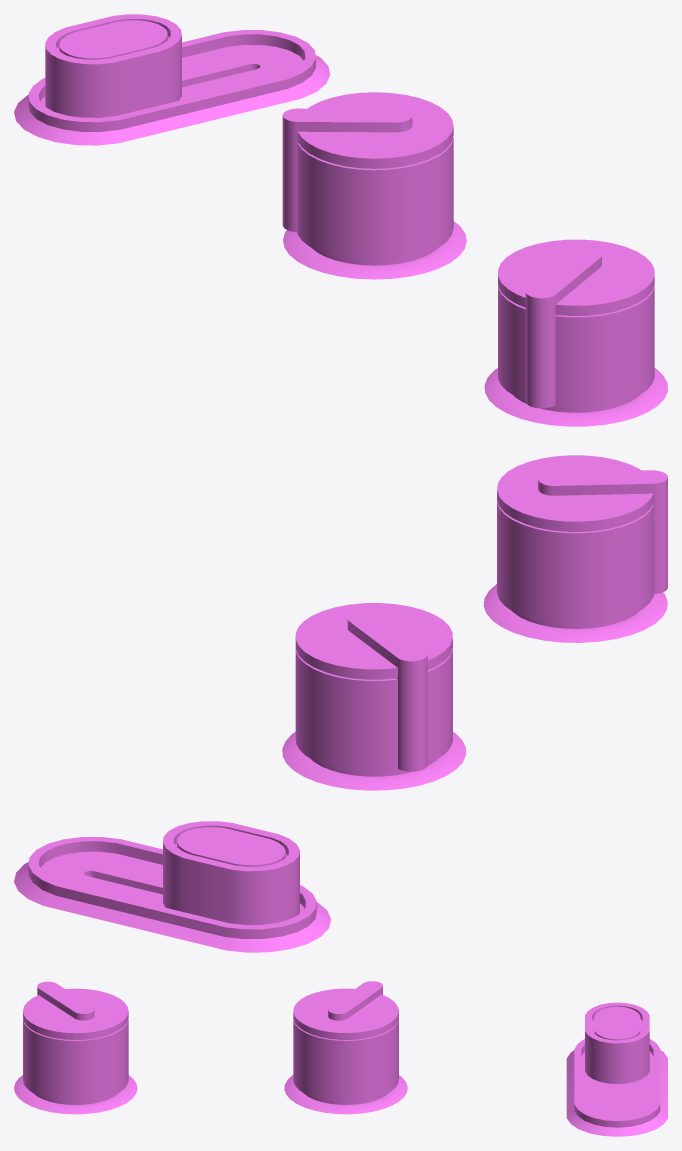
The model's file is Unikko_Button_A.glb.
3 renders of one model, top to bottom at view 1: azimuth 30°, elevation 25°; view 2: azimuth 150°, elevation 25°; view 3: azimuth 270°, elevation 25°, orthographic. The views are drawn at different scales.
Visible parts, largest first — view 1: Unikko_Button_A; view 2: Unikko_Button_A; view 3: Unikko_Button_A.
Boxes of the visible parts, <box> form: Unikko_Button_A: <box>14,14,667,426</box>; Unikko_Button_A: <box>14,455,667,952</box>; Unikko_Button_A: <box>14,981,667,1136</box>.
Size of the model in its own units: 0.0339 by 0.0142 by 0.0965.
